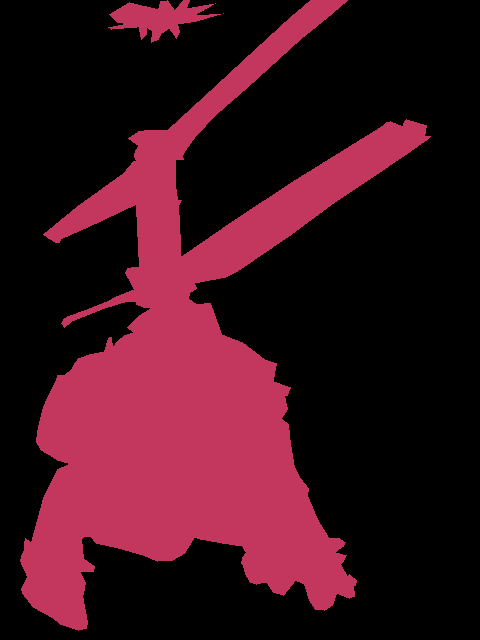Airplane: (20, 0, 430, 630), (108, 0, 223, 42)
